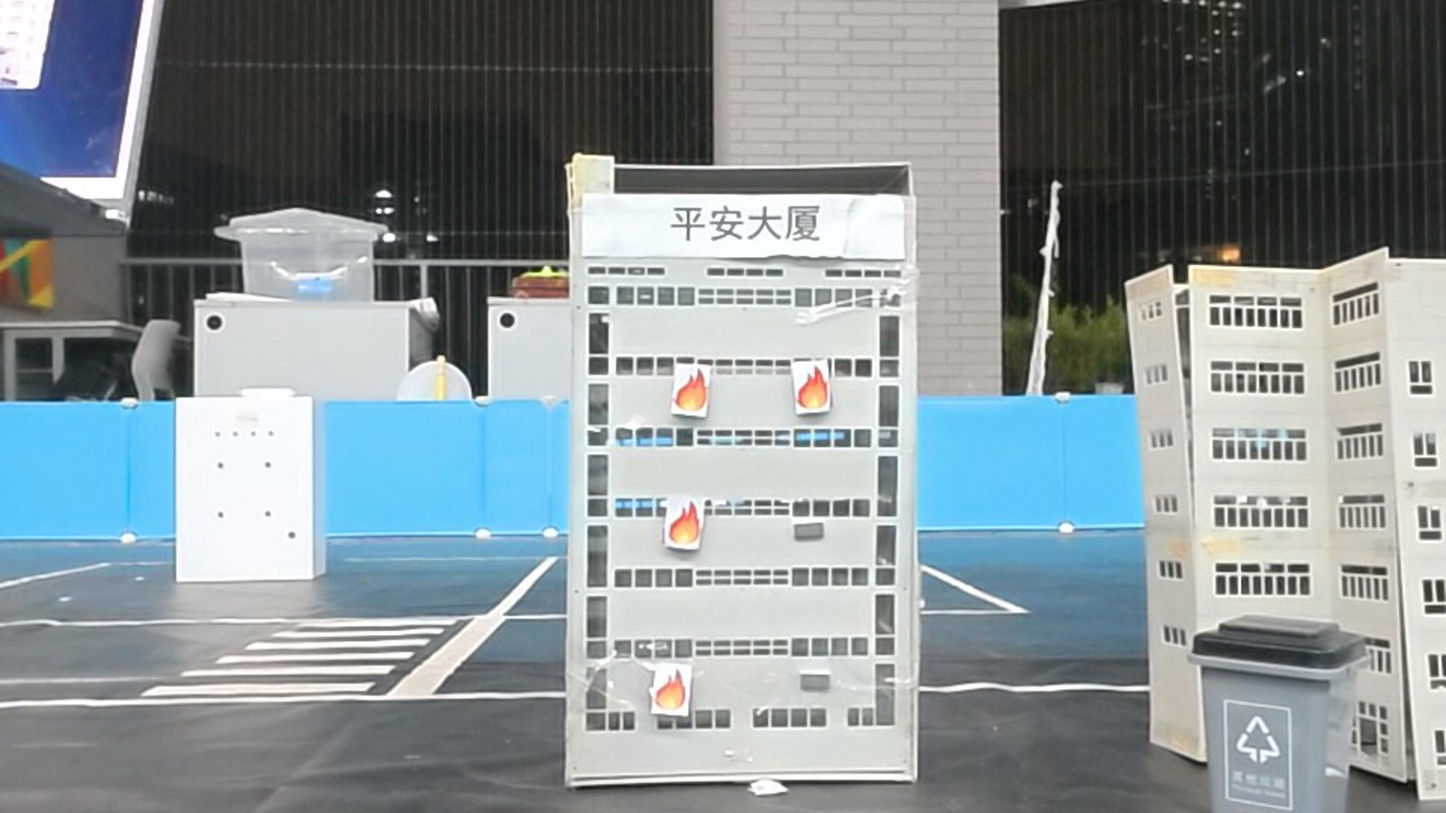fire: (665, 494, 706, 551), (650, 662, 693, 715), (672, 362, 713, 416), (793, 361, 833, 413)
